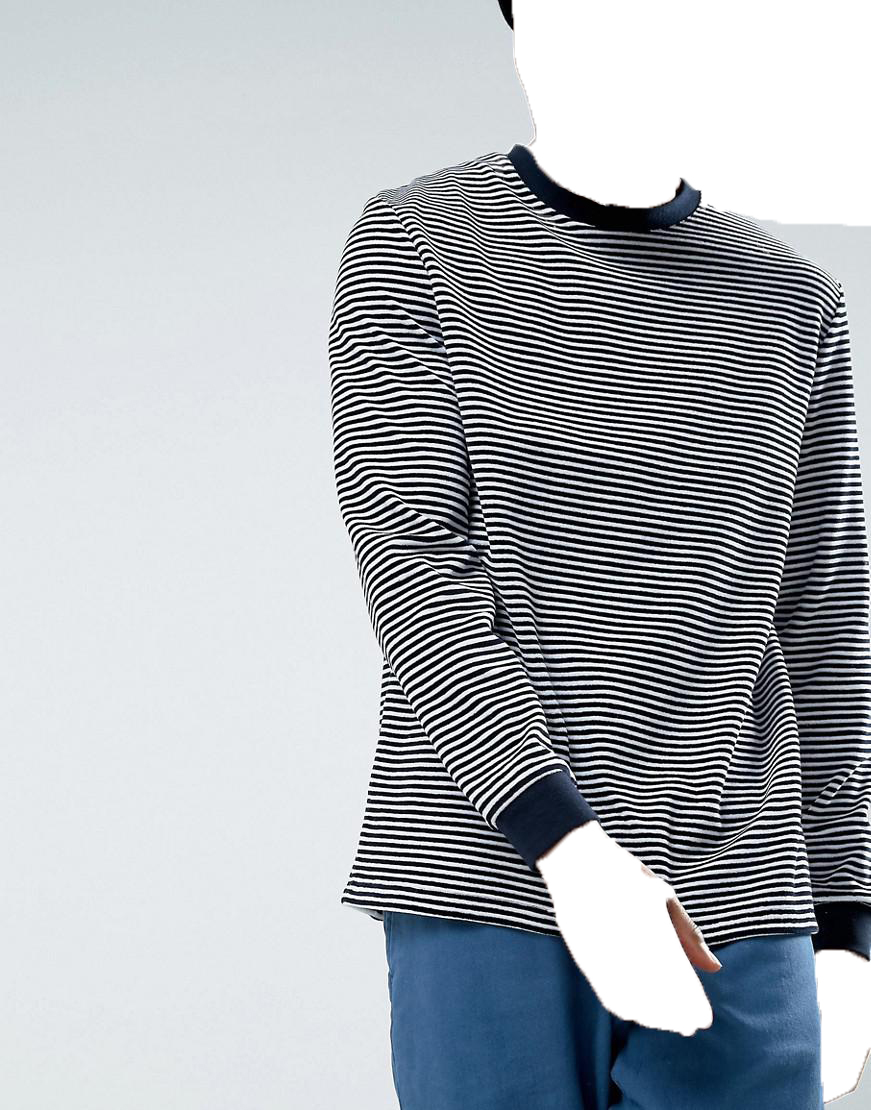teeshirt: (315, 139, 871, 984)
